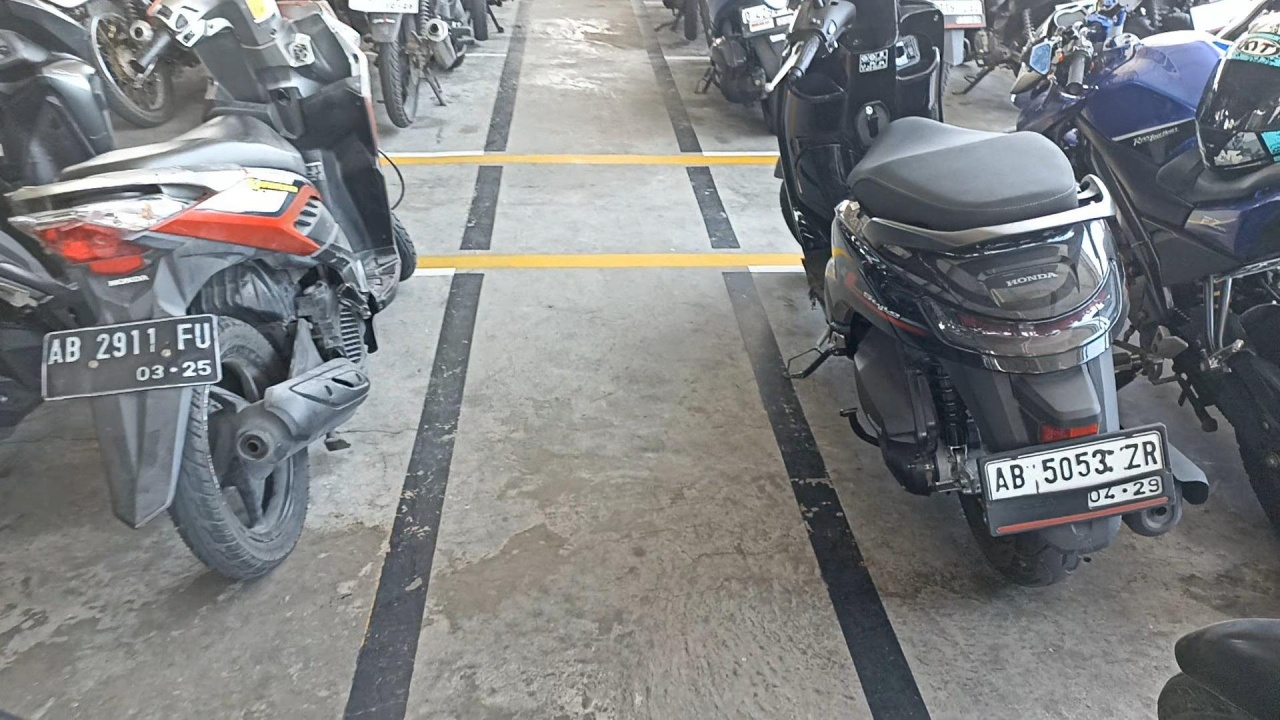plate: (981, 429, 1172, 535), (45, 314, 220, 400)
